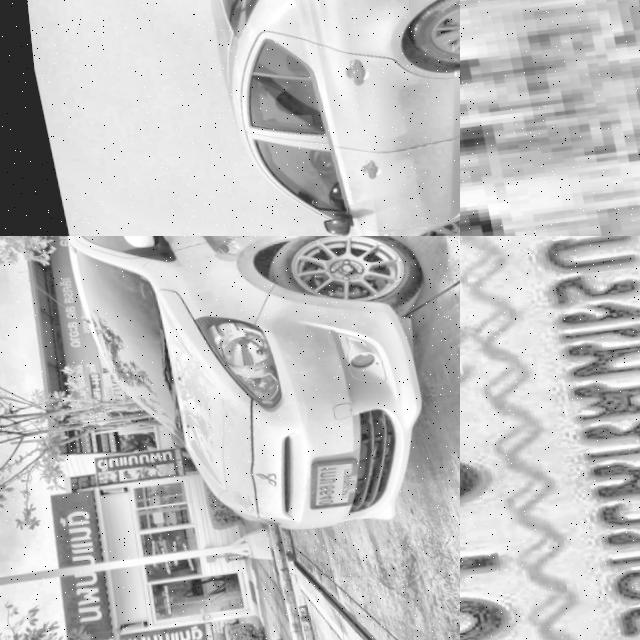license-plate: (460, 236, 640, 640), (460, 0, 640, 236), (290, 457, 353, 513)
